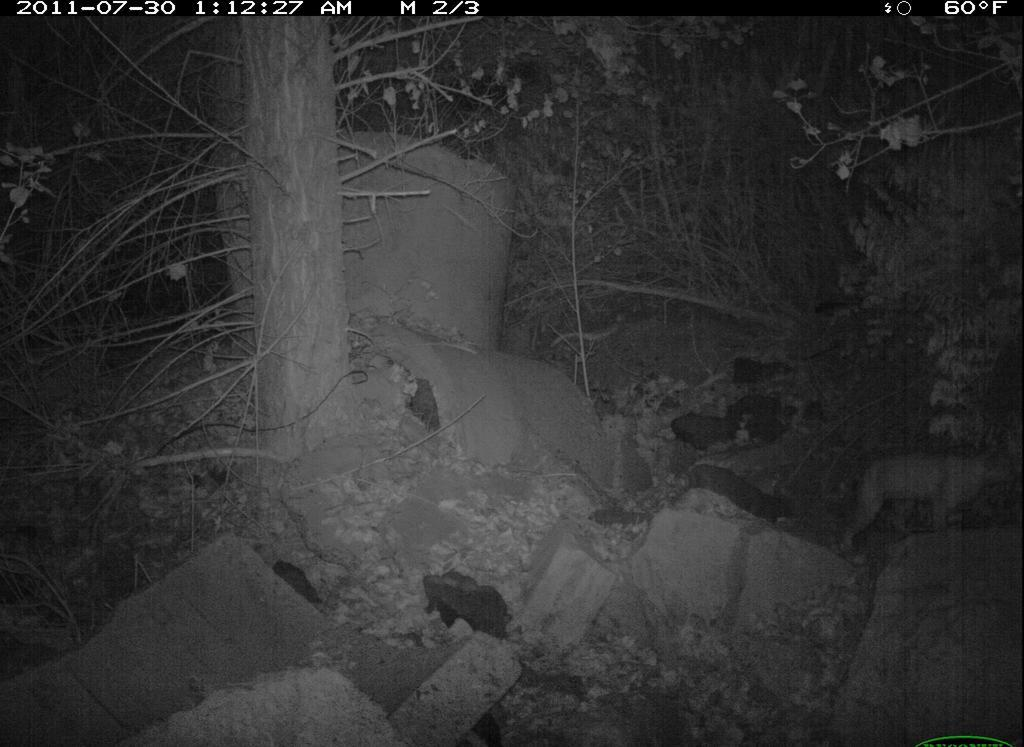bobcat: (837, 447, 1018, 569)
